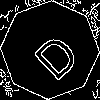D: (25, 25, 82, 83)
